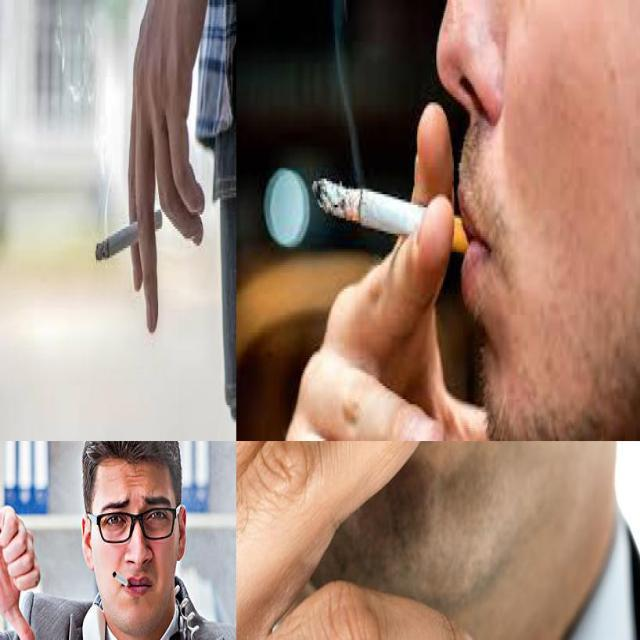smoking: (310, 177, 487, 268), (94, 210, 162, 264), (112, 570, 131, 588)
